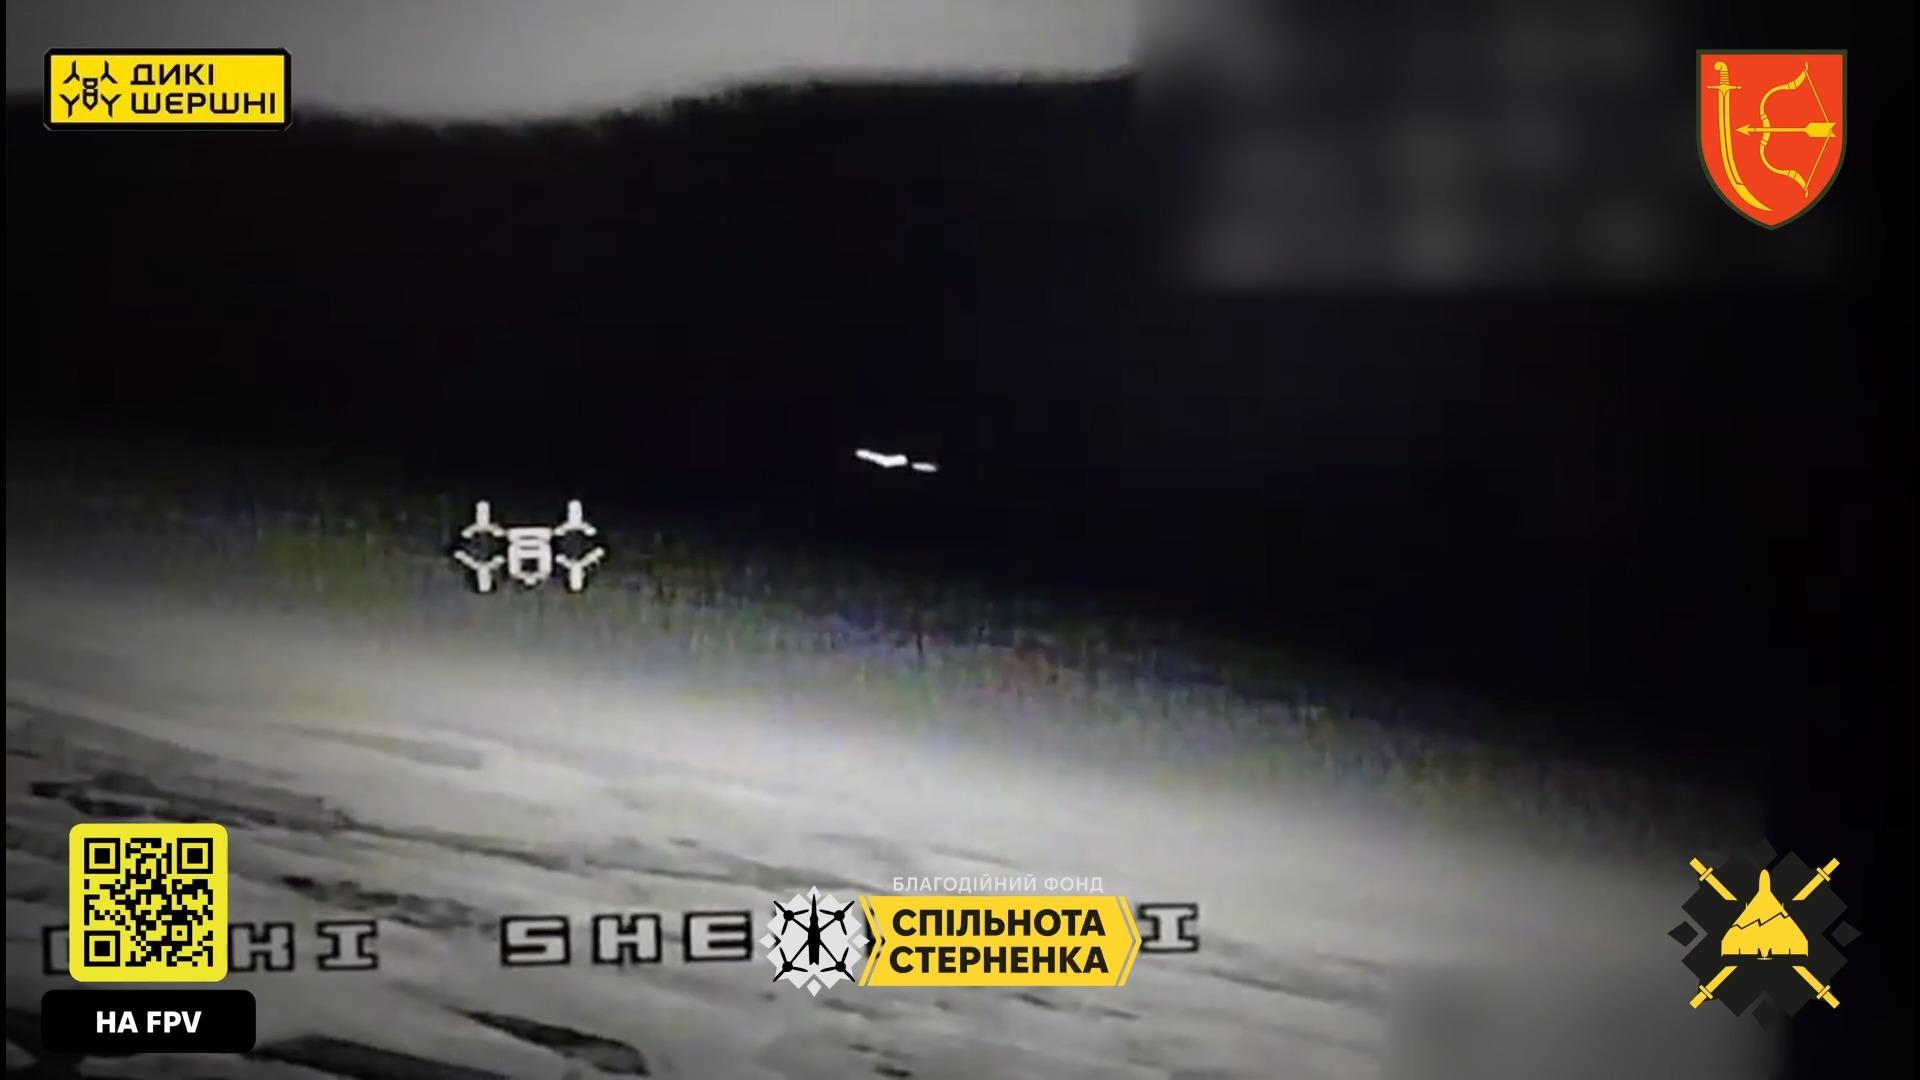Gerbera: (855, 447, 940, 472)
